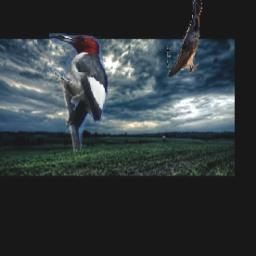Swallow: (167, 0, 202, 78)
Woodpecker: (50, 33, 109, 152)
